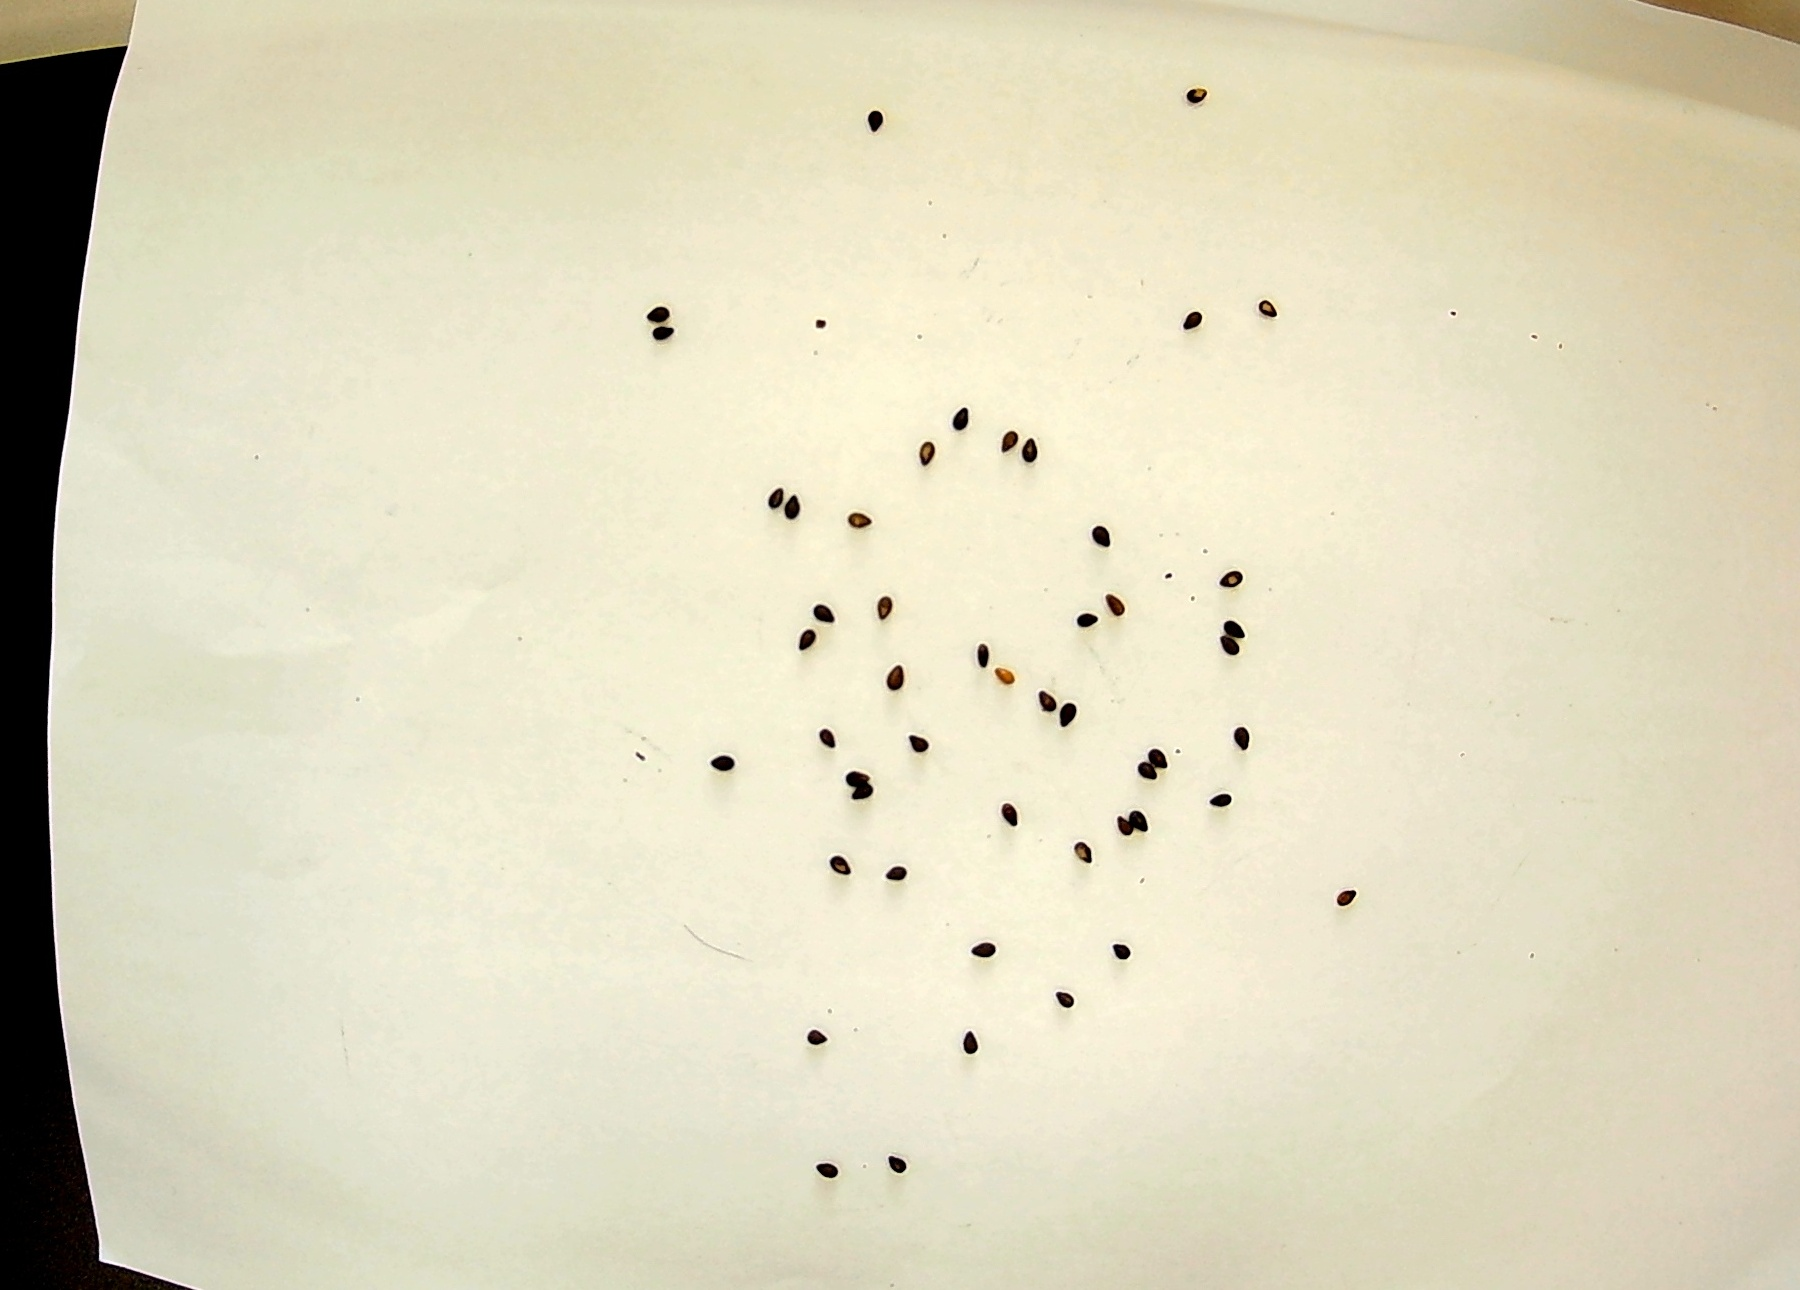sesami: (1098, 589, 1140, 630), (882, 655, 913, 697), (825, 852, 868, 881), (947, 402, 980, 441), (1333, 881, 1369, 914), (998, 796, 1028, 833), (802, 600, 847, 625), (966, 935, 1006, 962), (1180, 80, 1215, 110), (1259, 292, 1293, 322), (901, 732, 939, 759), (790, 628, 823, 659), (640, 300, 687, 322), (883, 1149, 918, 1178), (954, 1025, 984, 1060), (1070, 833, 1100, 868), (809, 720, 841, 751), (1109, 806, 1134, 845), (1179, 304, 1208, 338), (1053, 986, 1084, 1016), (1231, 723, 1261, 754), (1127, 803, 1160, 832), (1084, 518, 1113, 550), (698, 754, 737, 778), (853, 103, 887, 130), (781, 489, 804, 529), (878, 860, 913, 885), (873, 592, 899, 627), (1213, 637, 1252, 659), (805, 1022, 834, 1051), (1220, 611, 1250, 639), (995, 424, 1020, 458), (645, 322, 682, 345), (765, 477, 788, 512), (1111, 935, 1141, 962), (1055, 692, 1074, 732), (911, 438, 935, 470), (839, 766, 880, 785), (839, 789, 893, 803), (1023, 431, 1042, 469), (1127, 764, 1169, 780), (1207, 789, 1236, 813), (1035, 683, 1056, 715), (841, 512, 878, 531), (1072, 607, 1097, 632), (812, 1157, 836, 1184), (995, 660, 1017, 685), (1146, 747, 1176, 765), (1221, 570, 1247, 591), (973, 638, 988, 669)
